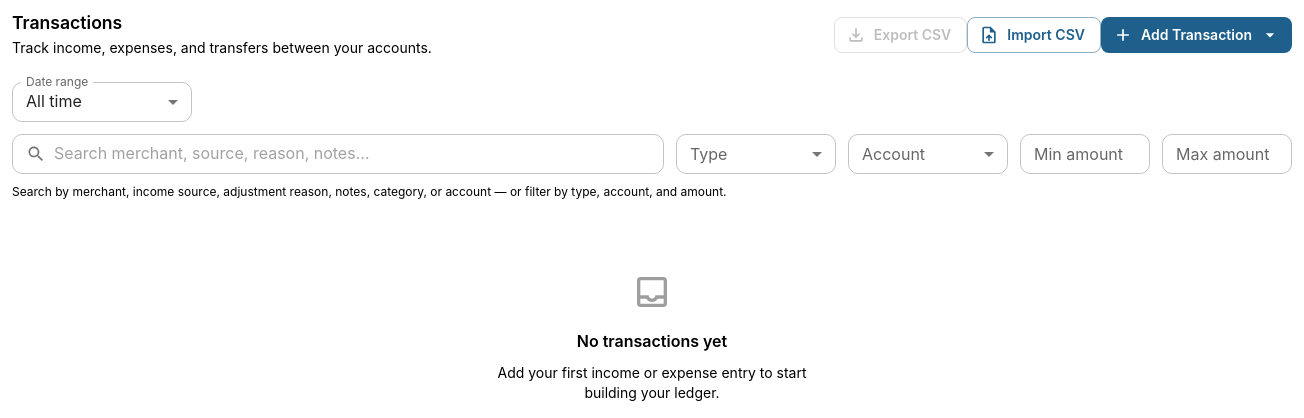
Test: TransactionsPage › opens the Add menu with all five transaction type options
Click the button "Add Transaction". click: {"x": 1196, "y": 35}
box: [1101,17,1292,53]
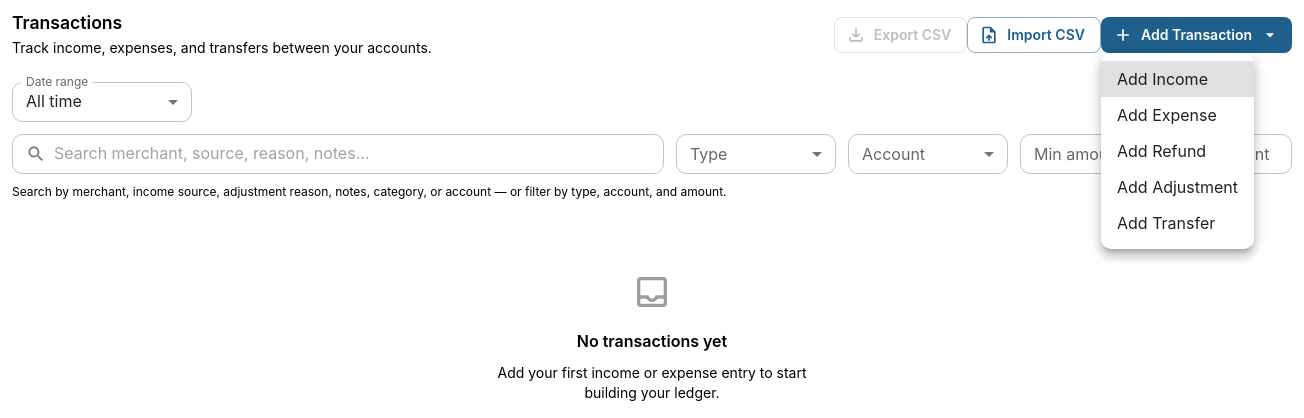
Result: the menu item "Add Income" is shown at [1101,61,1254,97]
Result: the menu item "Add Expense" is shown at [1117,105,1217,125]
Result: the menu item "Add Refund" is shown at [1117,141,1206,161]
